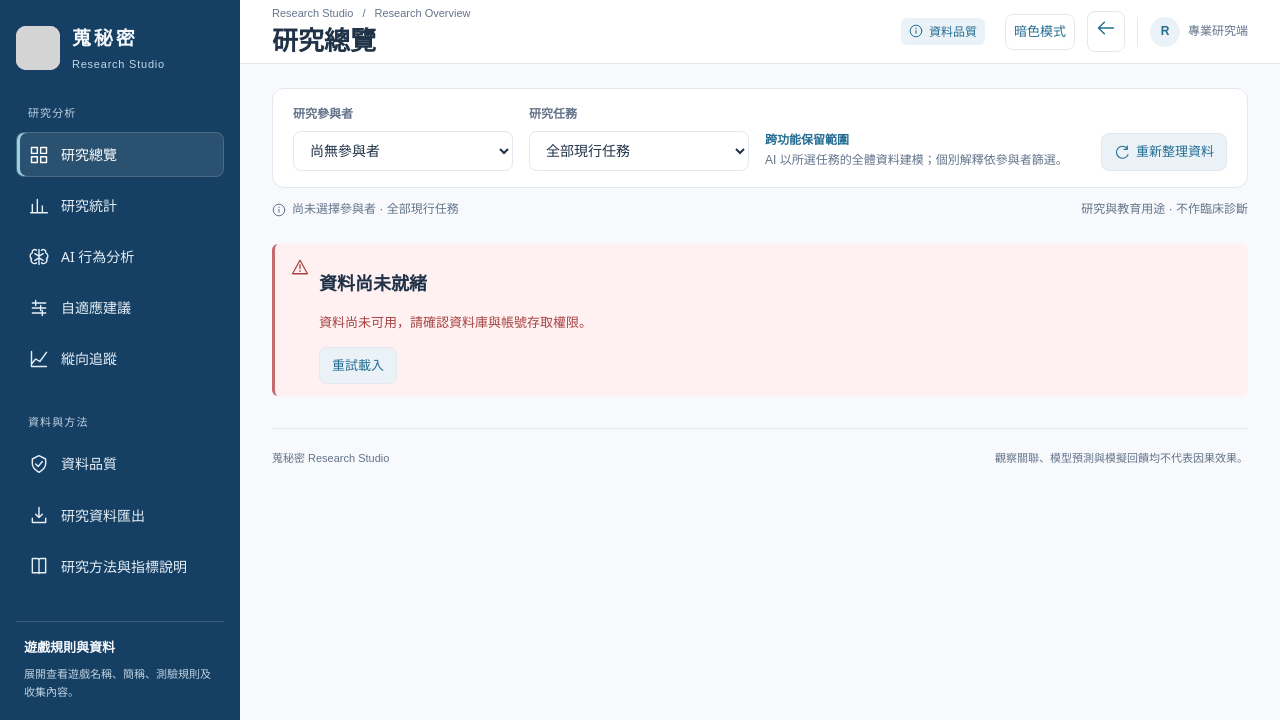
an unavailable primary source exposes a retry instead of an empty analysis
Expected: the message shows "資料尚未就緒", [319,274,427,294]
Click the button "重新整理資料" at (1164, 152), box [1101,133,1227,171]
(page scrolled)
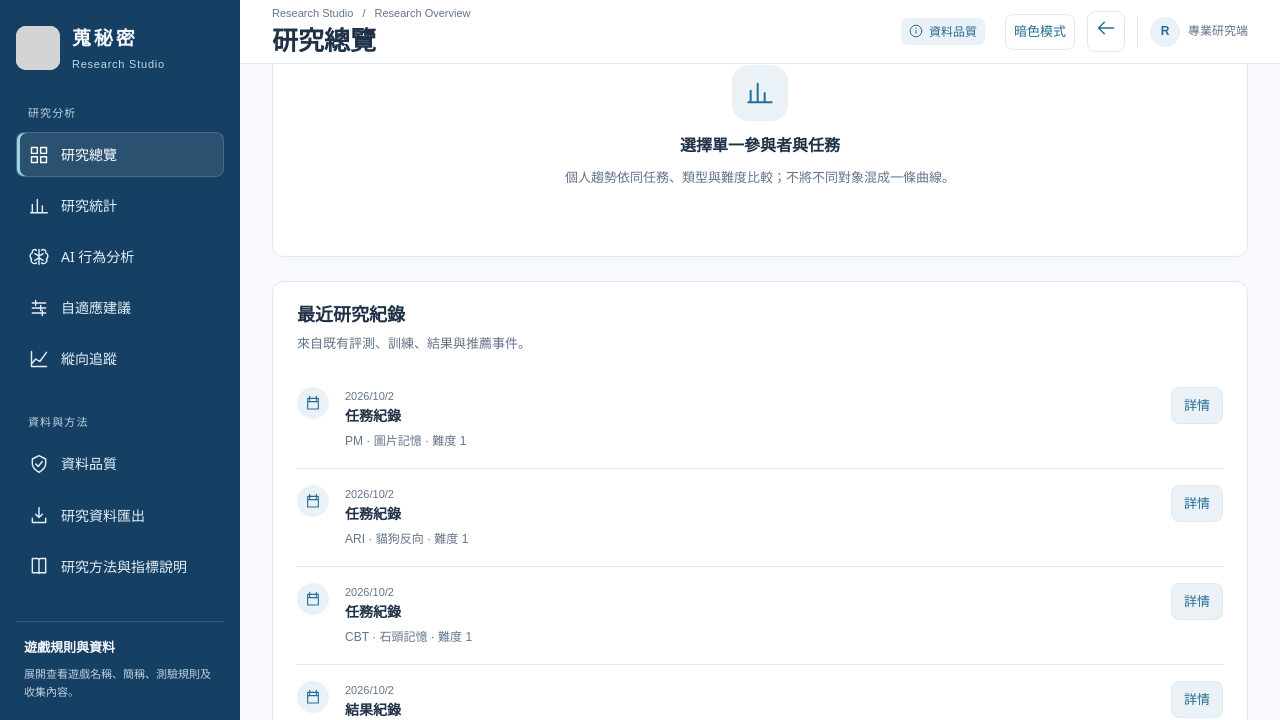
Expected: the message "資料尚未就緒 資料尚未可用，請確認資料庫與帳號存取權限。 重試載入" is gone
